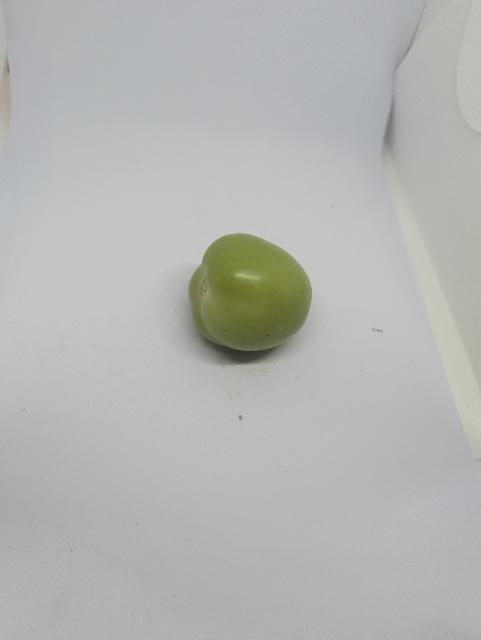green: (176, 229, 327, 359)
